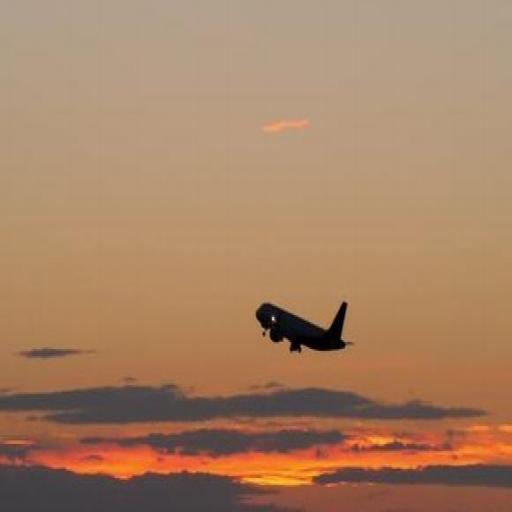aircraft: (258, 298, 353, 356)
